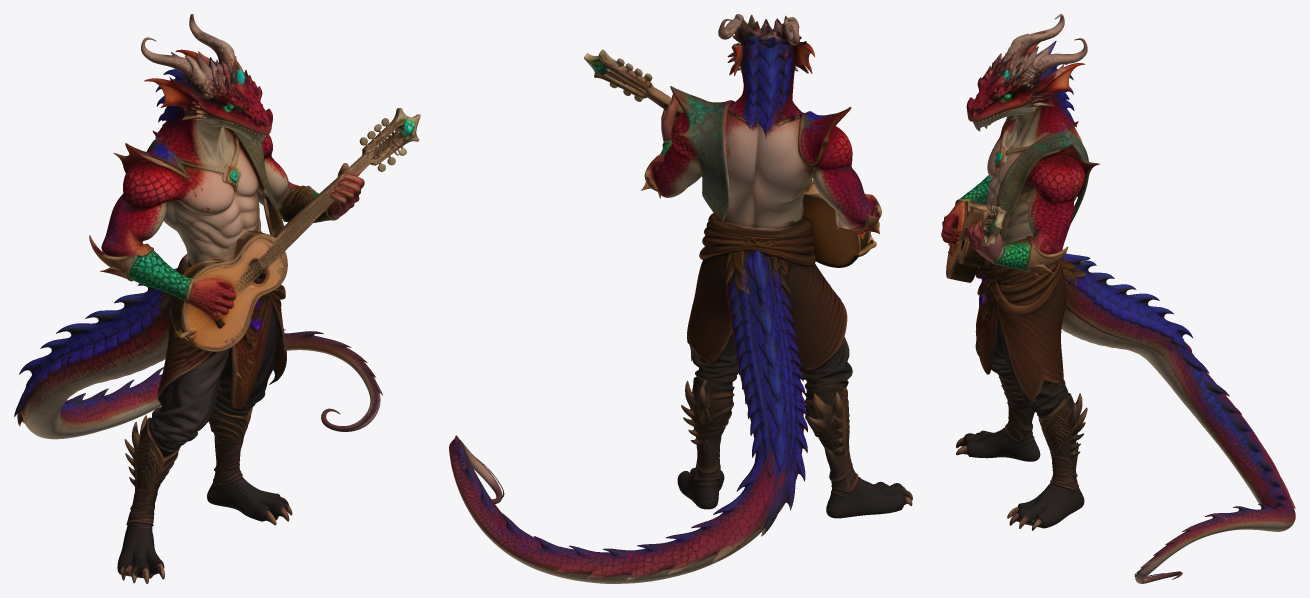
Rendered from dragonborn_bard_full_male_01.glb.
The picture shows the model from 3 angles, left to right: view 1: azimuth 30°, elevation 25°; view 2: azimuth 150°, elevation 25°; view 3: azimuth 270°, elevation 25°; orthographic projection. The views are drawn at different scales.
Visible parts, largest first — view 1: material; view 2: material; view 3: material.
Boxes of the visible parts, box(x1,y1,x2,y2) form: material: box(14, 14, 420, 583); material: box(449, 14, 912, 583); material: box(941, 14, 1295, 583).
Size of the model in its own units: 0.6506 by 0.8727 by 0.6087.
Materials: 1 (1 with a texture image).
